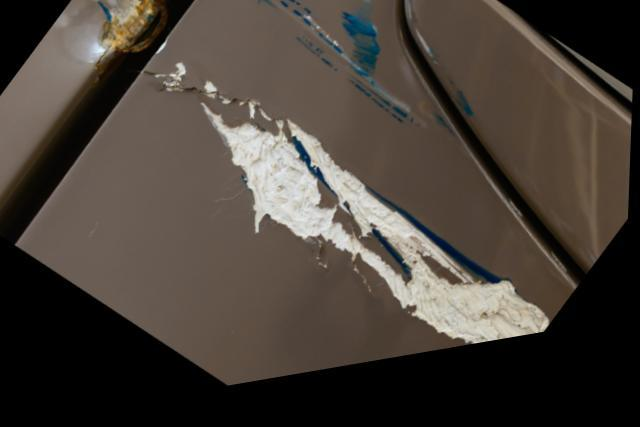dent: (55, 0, 156, 64)
scratch: (149, 70, 552, 362), (230, 0, 425, 145)
